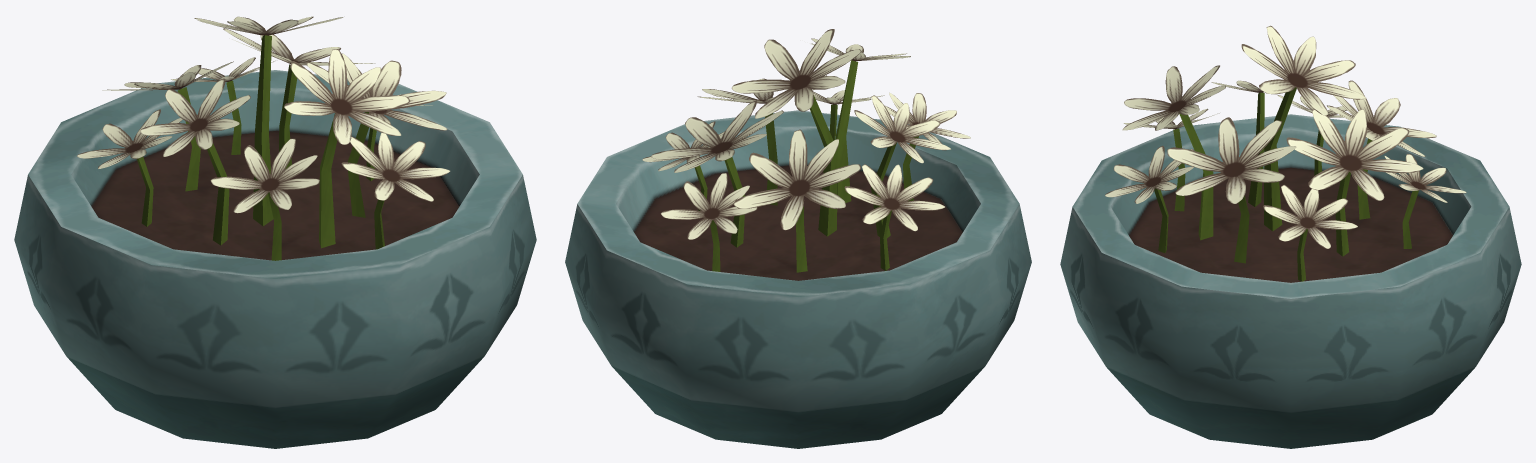
The model's file is flowerBowl4.fbx.
3 views of the same model, side by side, from view 1: azimuth 30°, elevation 25°; view 2: azimuth 150°, elevation 25°; view 3: azimuth 270°, elevation 25° (orthographic). The views are drawn at different scales.
Parts seen in each view (by area): view 1: polySurface2267; view 2: polySurface2267; view 3: polySurface2267.
Boxes of the visible parts, <box> form: polySurface2267: <box>14,16,536,448</box>; polySurface2267: <box>565,29,1031,448</box>; polySurface2267: <box>1060,25,1521,448</box>.
Size of the model in its own units: 0.7908 by 0.6357 by 0.7908.
